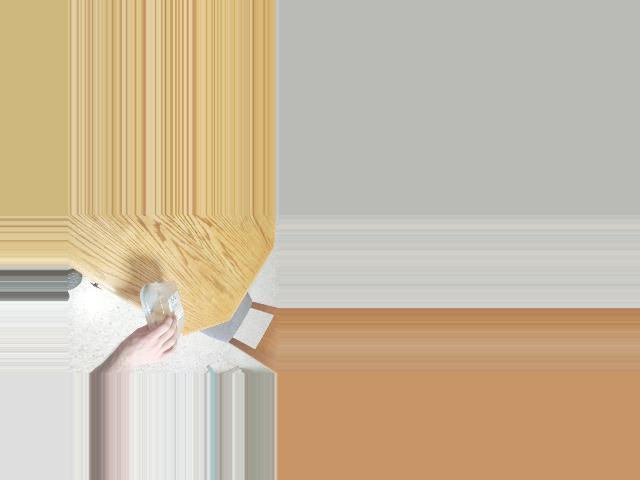cheese: (134, 293, 186, 356)
